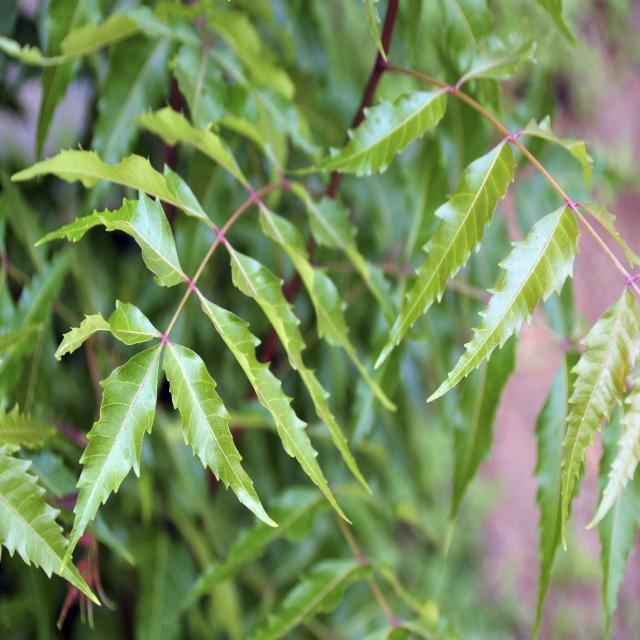Medicinal-Neem: (39, 51, 640, 561)
